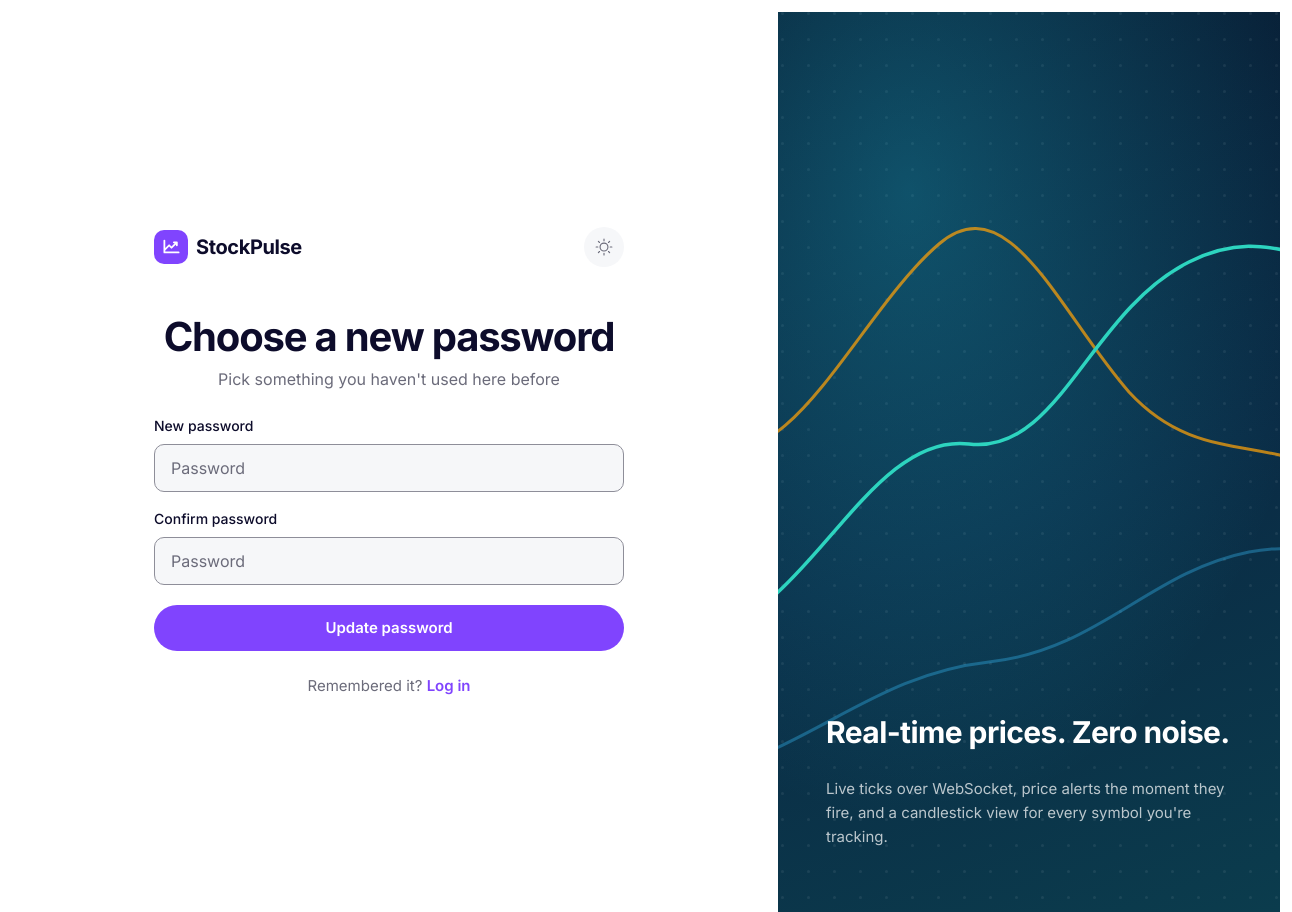
Test: AuthGate — password reset › submits the token with the new password and returns to login
Type "correct-horse-battery" into the password field labelled "New password" at (389, 468), box [154,444,624,492]
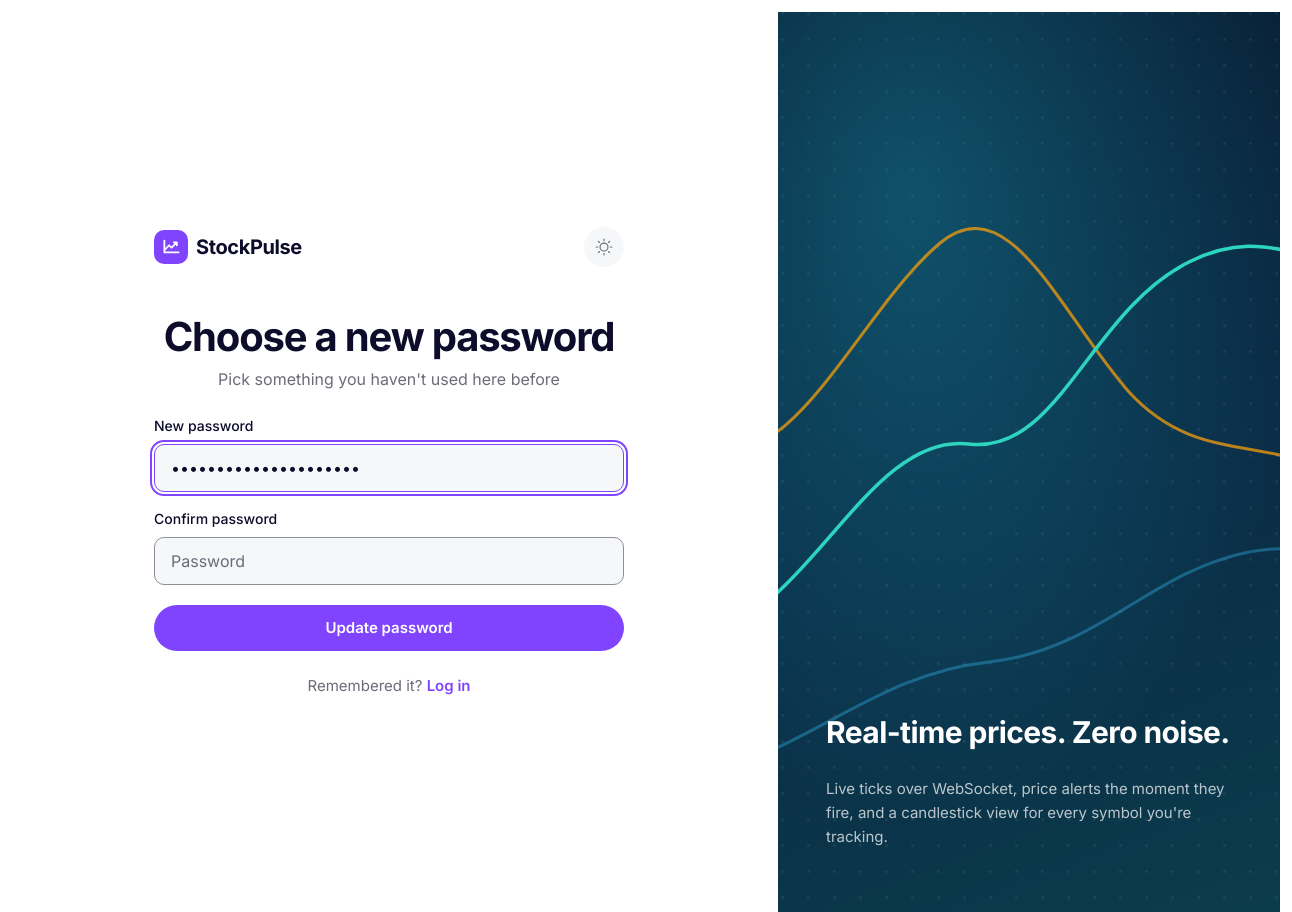
Type "correct-horse-battery" into the password field labelled "Confirm password" at (389, 561), box [154,537,624,585]
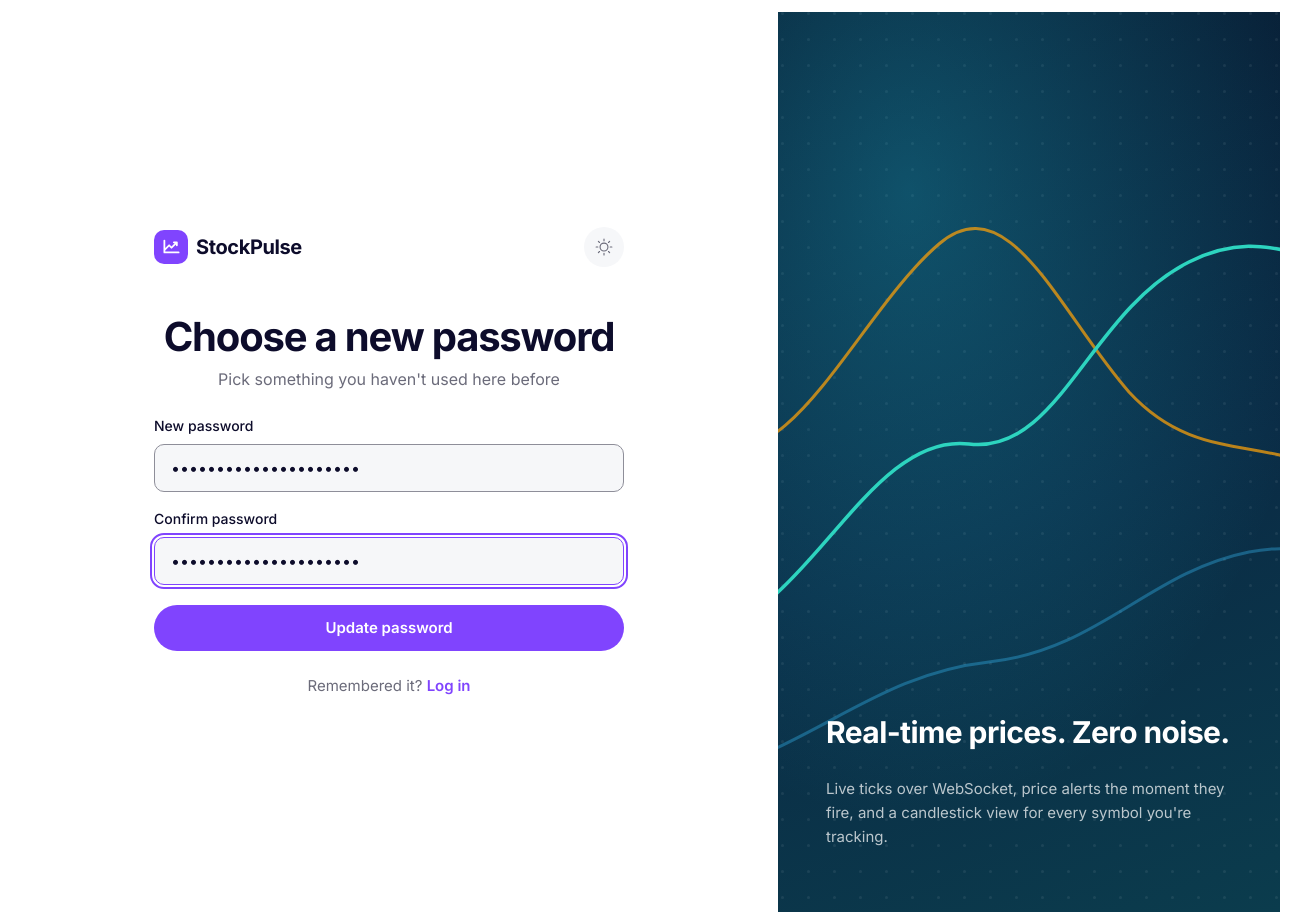
Click the button "Update password" at (389, 628), box [154,605,624,651]
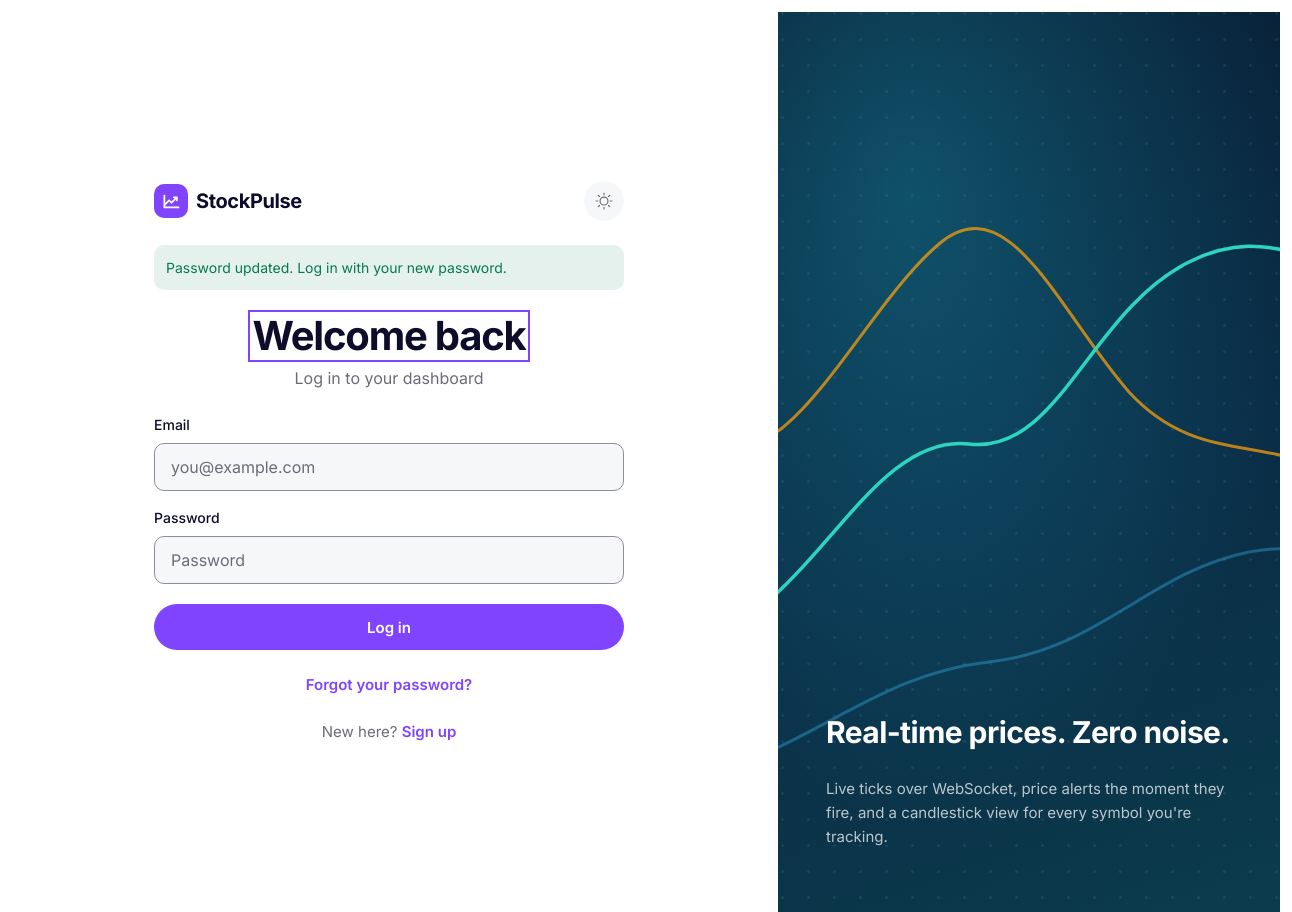
Result: the form "Log in" is shown at [154,414,624,650]
Result: the message shows "Log in with your new password" at [166,259,507,276]
